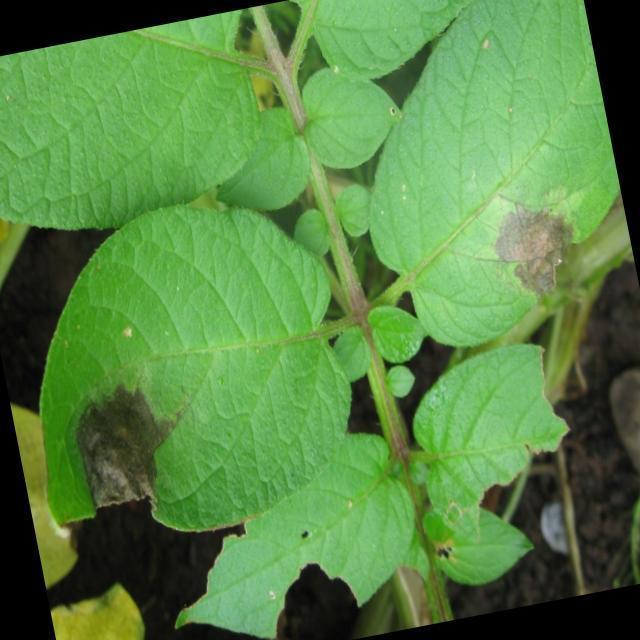Healthy Leaf: (294, 60, 410, 174), (364, 300, 430, 366)
